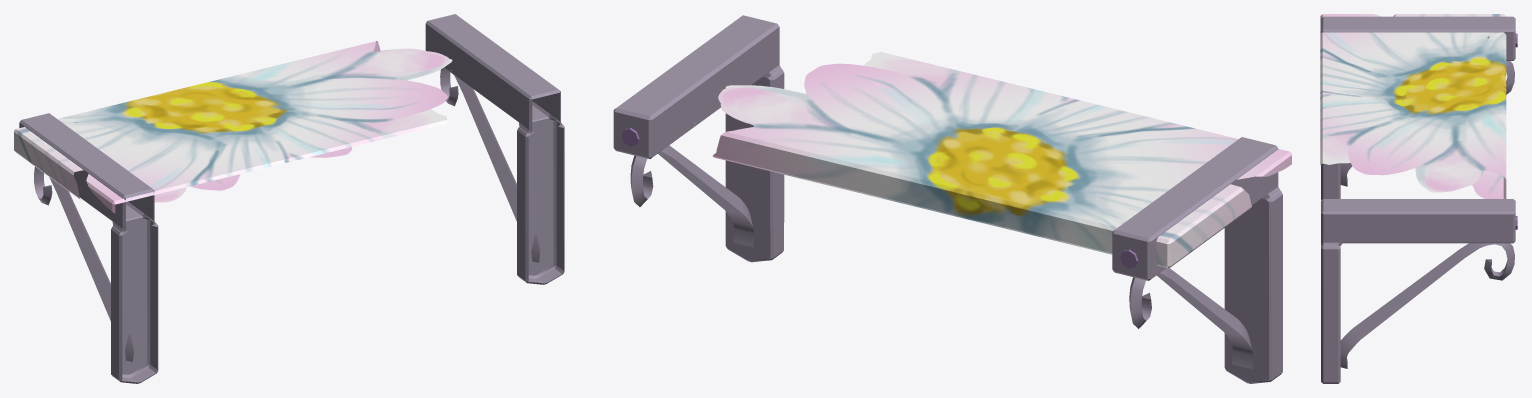
The model's file is SmallShelf.fbx.
3 views of the same model, side by side, from view 1: azimuth 30°, elevation 25°; view 2: azimuth 150°, elevation 25°; view 3: azimuth 270°, elevation 25° (orthographic). The views are drawn at different scales.
Parts seen in each view (by area): view 1: SmallShelf; view 2: SmallShelf; view 3: SmallShelf.
Boxes of the visible parts, x1,y1,x2,y2 form: SmallShelf: (14,14,564,383); SmallShelf: (613,15,1291,383); SmallShelf: (1320,14,1517,383).
Size of the model in its own units: 90.32 by 35.73 by 36.31.
